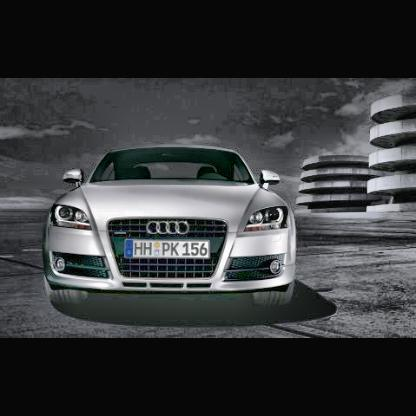Audi TT Hatchback 2011: (44, 144, 299, 309)
